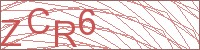6: (78, 8, 97, 36)
C: (27, 7, 50, 34)
R: (53, 19, 78, 48)
Z: (1, 19, 22, 47)
